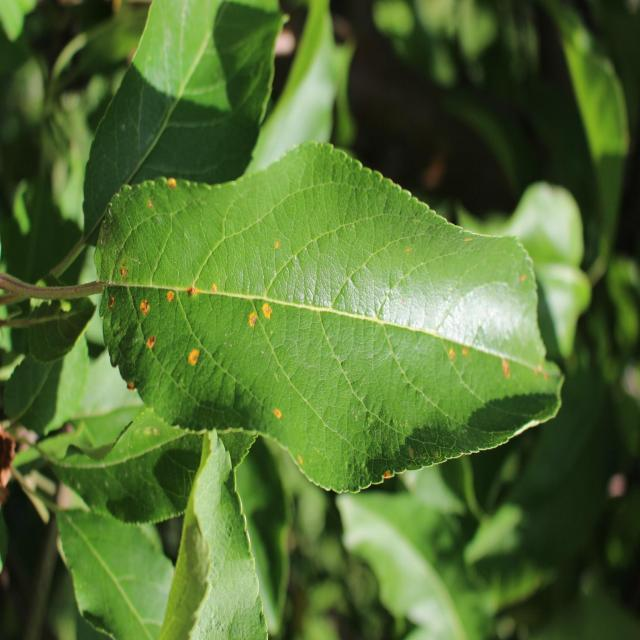Rust: (532, 354, 554, 390), (165, 173, 184, 210), (185, 342, 204, 372), (498, 348, 513, 384), (268, 401, 286, 426), (442, 342, 457, 371), (118, 259, 135, 283), (259, 303, 277, 325), (144, 331, 160, 355), (246, 310, 259, 334), (124, 377, 138, 399), (140, 292, 152, 317), (164, 284, 176, 308), (296, 448, 306, 472), (144, 192, 156, 212), (380, 469, 394, 485), (207, 284, 220, 296), (108, 289, 114, 313), (461, 346, 470, 362), (519, 266, 528, 282), (404, 246, 414, 260), (274, 236, 281, 254)
